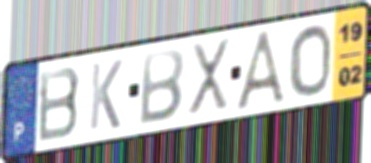A: (233, 26, 291, 111)
B: (136, 46, 187, 128), (36, 64, 83, 146)
K: (87, 57, 125, 134)
O: (287, 22, 333, 98)
X: (185, 35, 232, 118)
